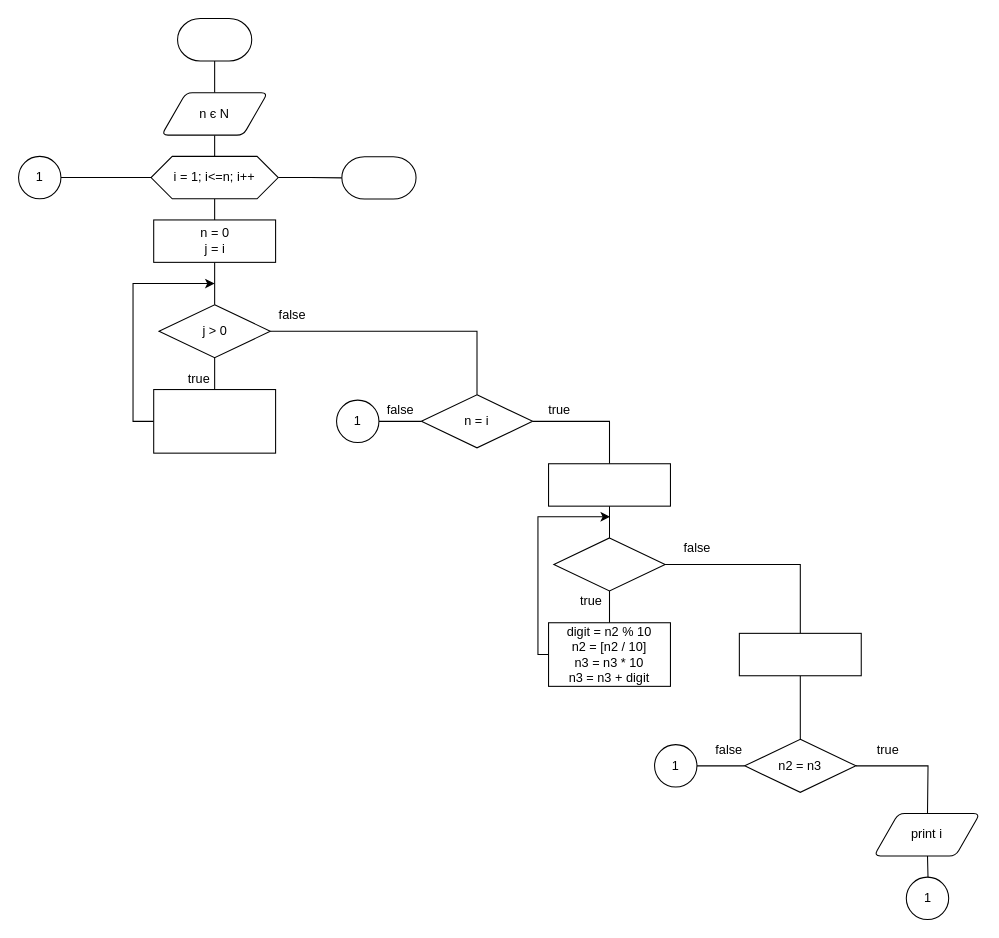
The diagram is 999 pixels wide and 938 high, and some of its shapes have lost their labels. Each missing label, with the centre of its shape:
"digit = j % 10 j = [j / 10] n1 = n1 * 10 n1 = n1 + digit" goes at [214,420].
"end" goes at [378,177].
"n2 = i^2" goes at [799,654].
"n2 = i^2 n3 = 0" goes at [608,484].
"n2 > 0" goes at [609,564].
"start" goes at [214,39].
